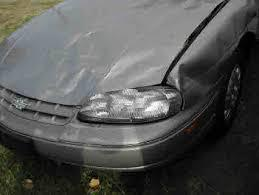bonnet-dent: (19, 12, 167, 89)
